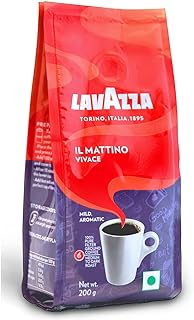Coffee: (21, 2, 184, 314)
